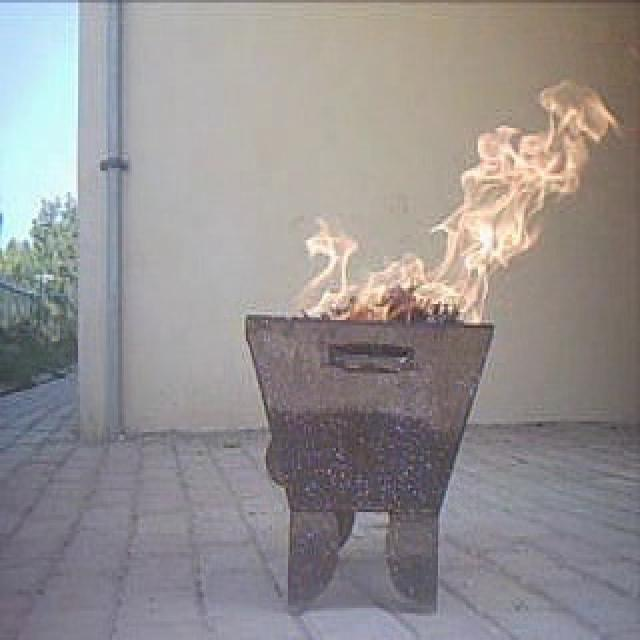Fire: (448, 86, 611, 258), (294, 234, 439, 310)
